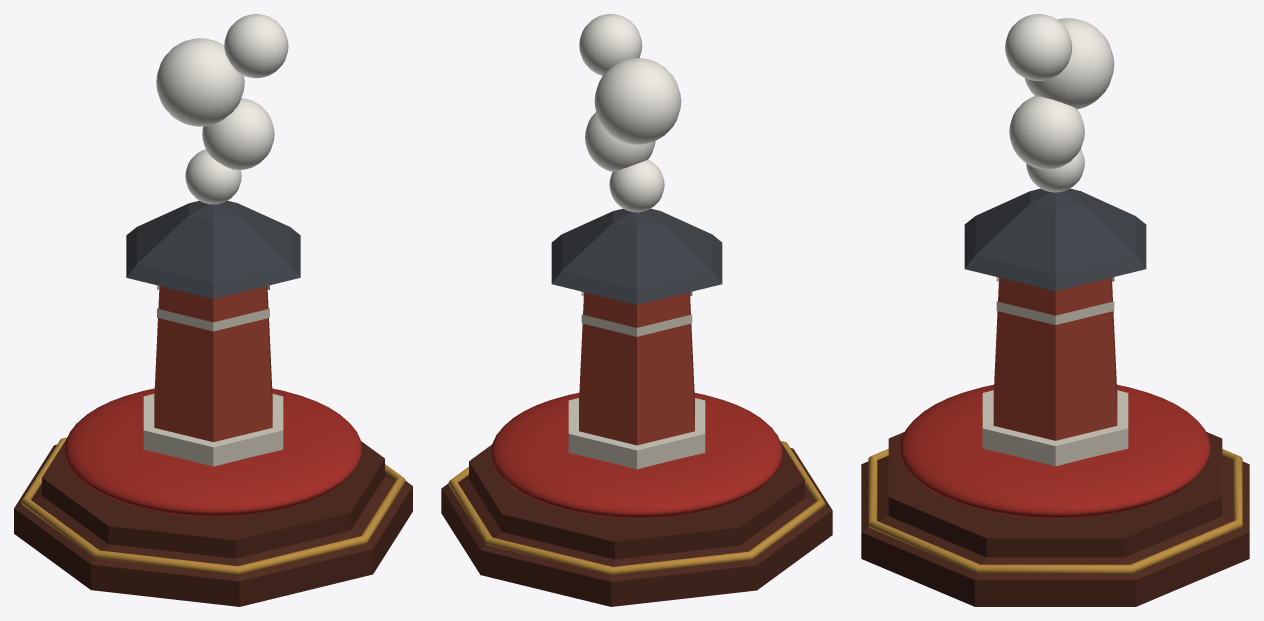
The model's file is amisan-chimney.glb.
The picture shows the model from 3 angles, left to right: view 1: azimuth 30°, elevation 25°; view 2: azimuth 150°, elevation 25°; view 3: azimuth 270°, elevation 25°; orthographic projection. The views are drawn at different scales.
Visible parts, largest first — view 1: amisan-chimney; view 2: amisan-chimney; view 3: amisan-chimney.
Part boxes in pixels (left/top/right/bottom): amisan-chimney: left=14, top=14, right=412, bottom=606; amisan-chimney: left=441, top=14, right=832, bottom=606; amisan-chimney: left=861, top=14, right=1249, bottom=606.
Size of the model in its own units: 0.9239 by 1.38 by 0.9239.
